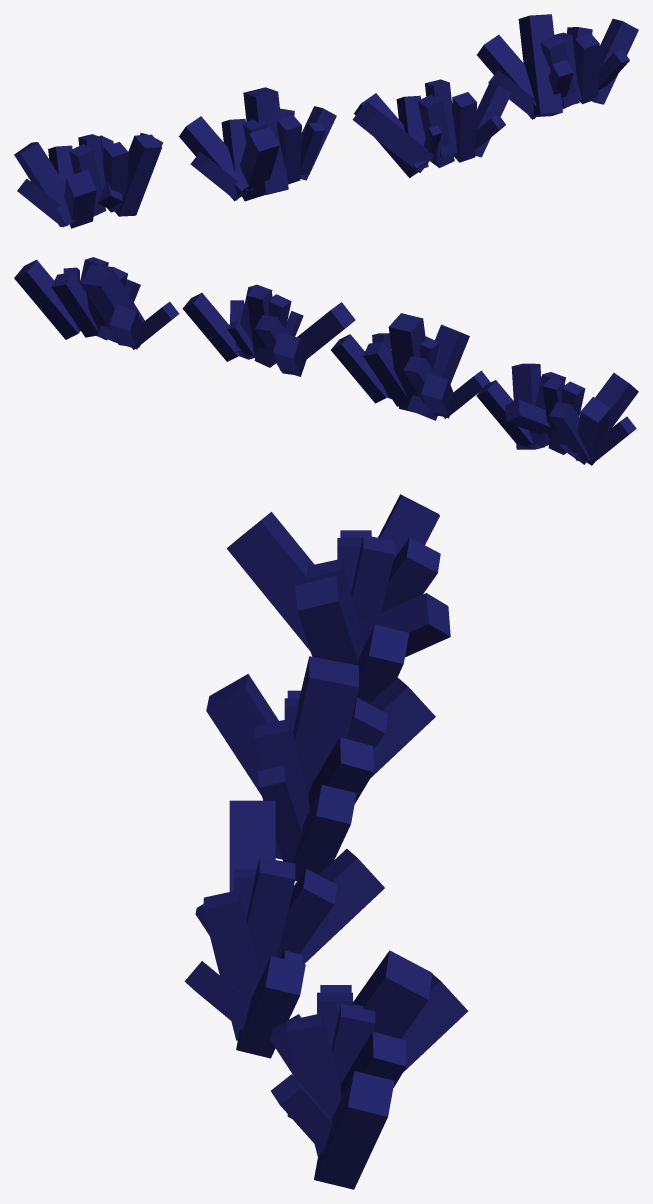
Rendered from Joined Wall cluster blocking.fbx.
The picture shows the model from 3 angles, top to bottom: view 1: azimuth 30°, elevation 25°; view 2: azimuth 150°, elevation 25°; view 3: azimuth 270°, elevation 25°; orthographic projection. The views are drawn at different scales.
Parts seen in each view (by area): view 1: Cube.003, Cube.009, Cube.002, Cube.001; view 2: Cube.002, Cube.009, Cube.003, Cube.001; view 3: Cube.009, Cube.002, Cube.003, Cube.001.
Part boxes in pixels (x1,y1,x2,y2): Cube.003: [477, 14, 638, 119]; Cube.009: [179, 87, 336, 201]; Cube.002: [14, 133, 163, 228]; Cube.001: [352, 79, 511, 178]; Cube.002: [476, 363, 638, 465]; Cube.009: [331, 313, 490, 420]; Cube.003: [14, 257, 179, 349]; Cube.001: [182, 284, 355, 376]; Cube.009: [206, 656, 435, 881]; Cube.002: [227, 494, 450, 703]; Cube.003: [270, 950, 468, 1189]; Cube.001: [184, 800, 384, 1058].
Bounding box in the file's own units: 7833 × 1264 × 1578.
